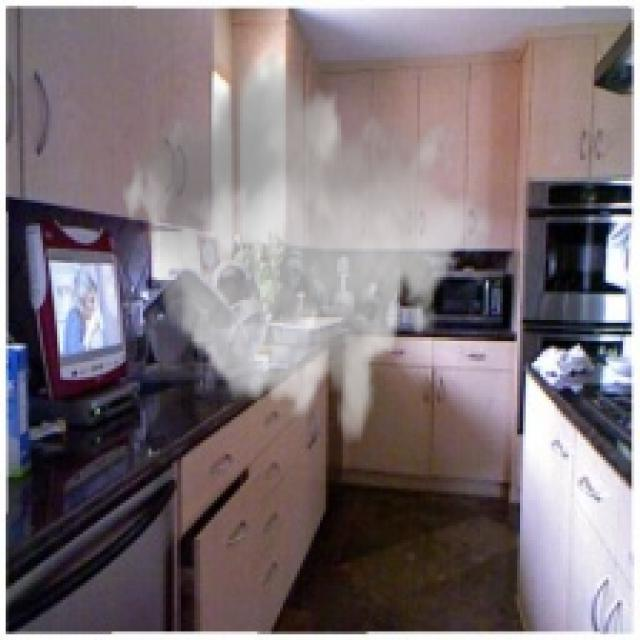Smoke: (117, 46, 494, 448)
